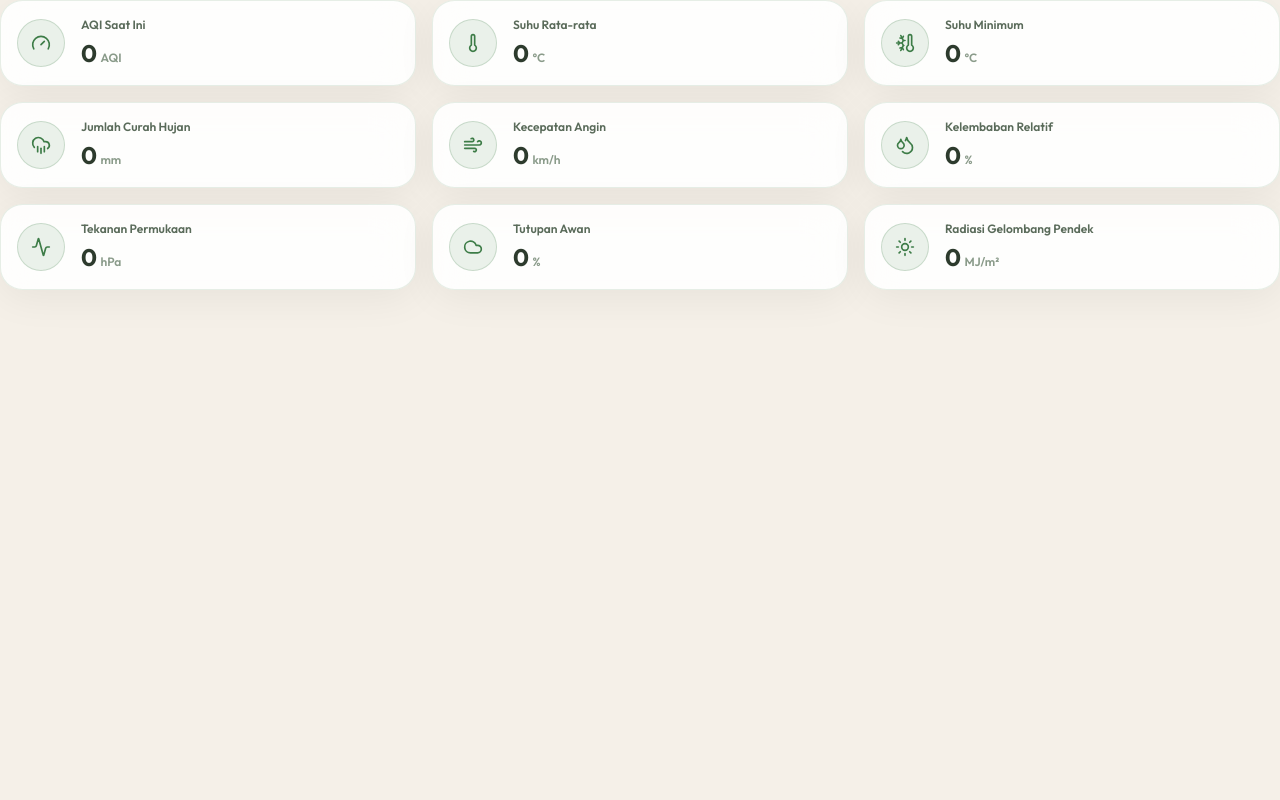
Test case: WeatherMetrics Details Modal › closes modal when clicking on the backdrop
The width and height of the screenshot is (1280, 800).
Note: Open the modal by clicking a card
Click the text "AQI Saat Ini": [113, 24] box x1=81 y1=17 x2=146 y2=32
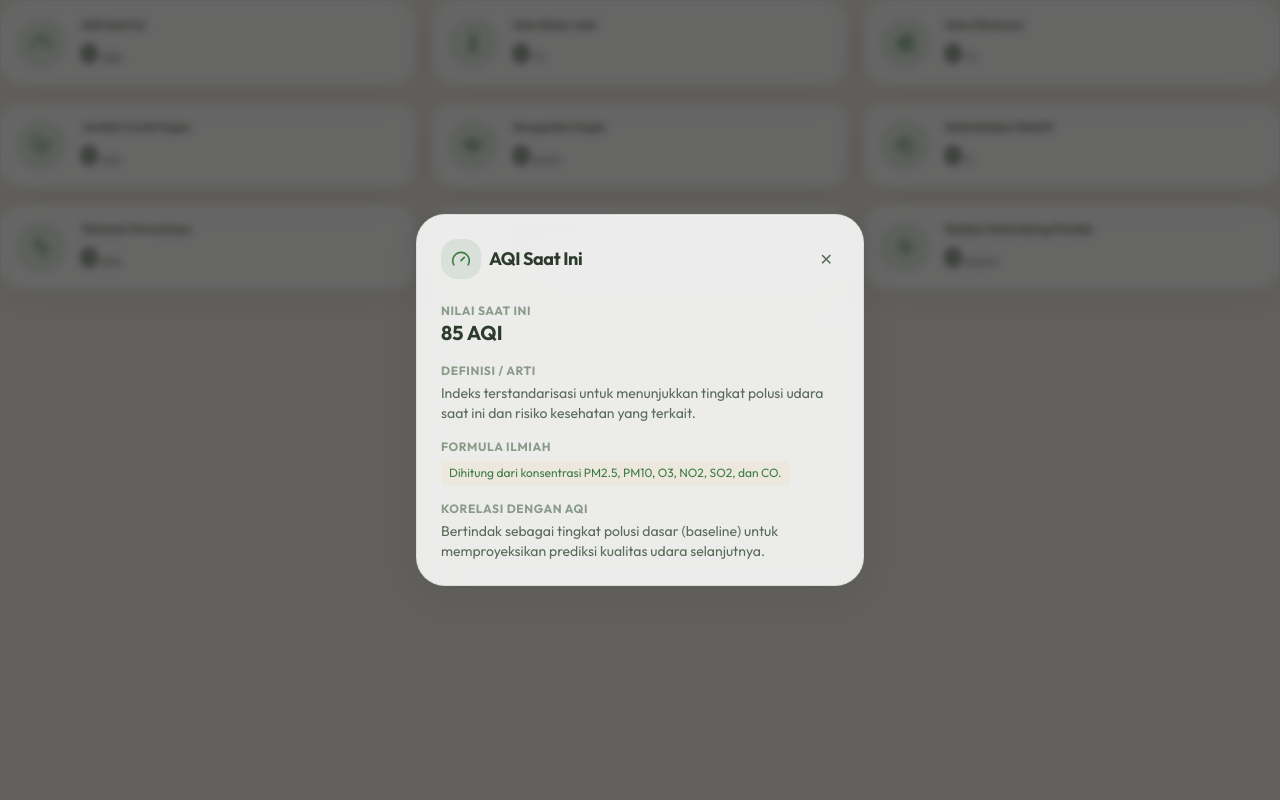
Expected: the button with test id "close-modal-btn" is shown, x1=814 y1=241 x2=839 y2=277
Note: Click on the dialog backdrop (the dialog element itself)
Click the dialog with test id "details-dialog": [640, 400] box x1=416 y1=214 x2=864 y2=586
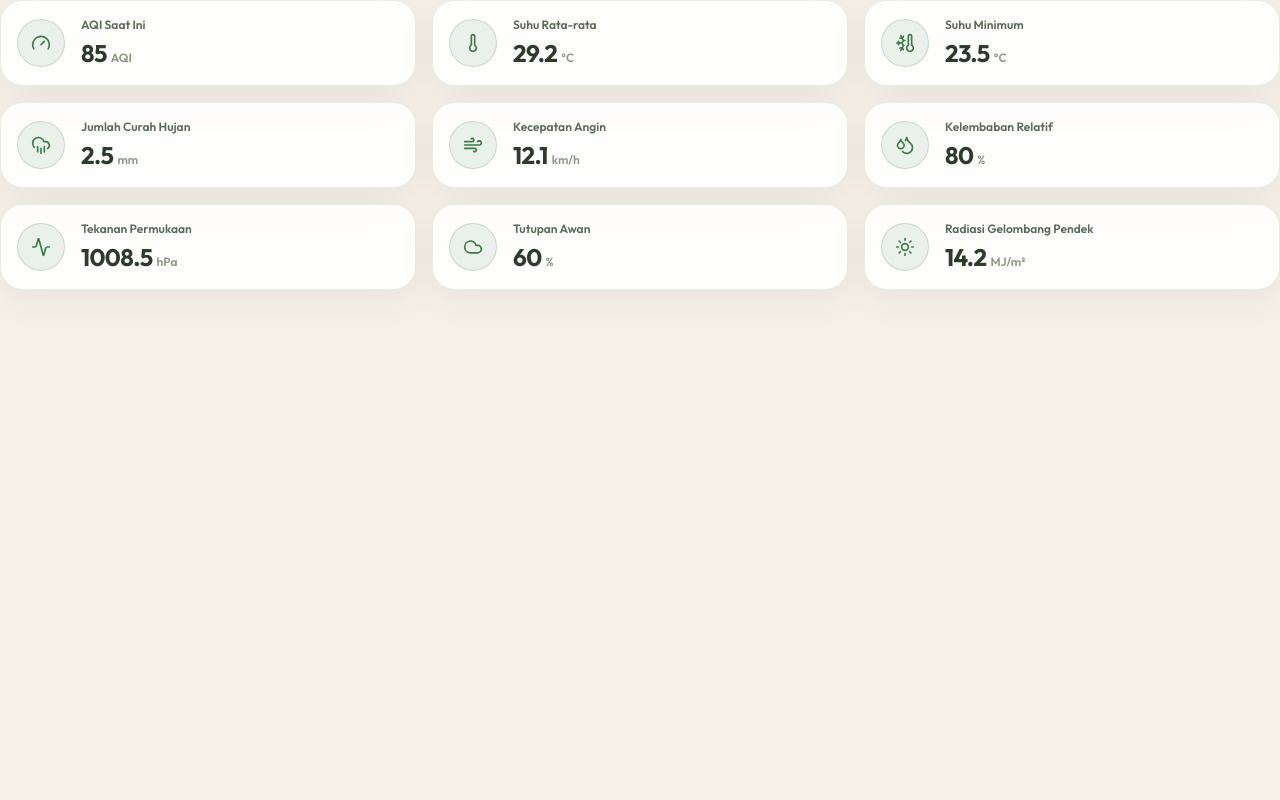
Expected: the button with test id "close-modal-btn" is gone
